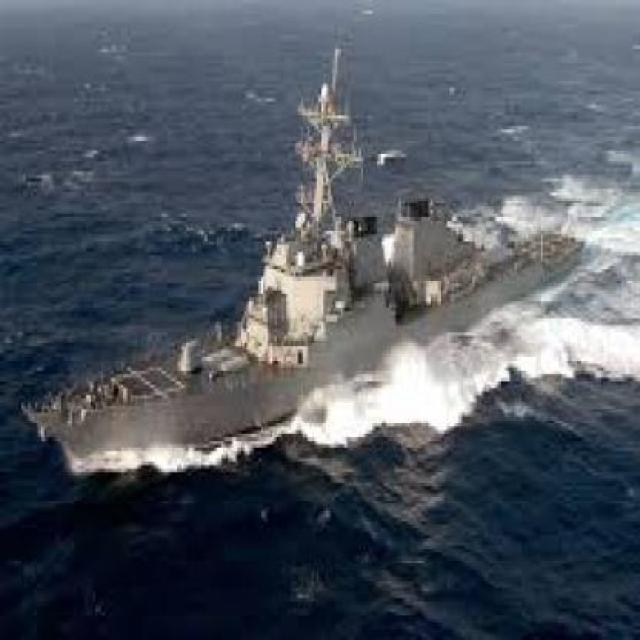warship2: (64, 39, 600, 519)
